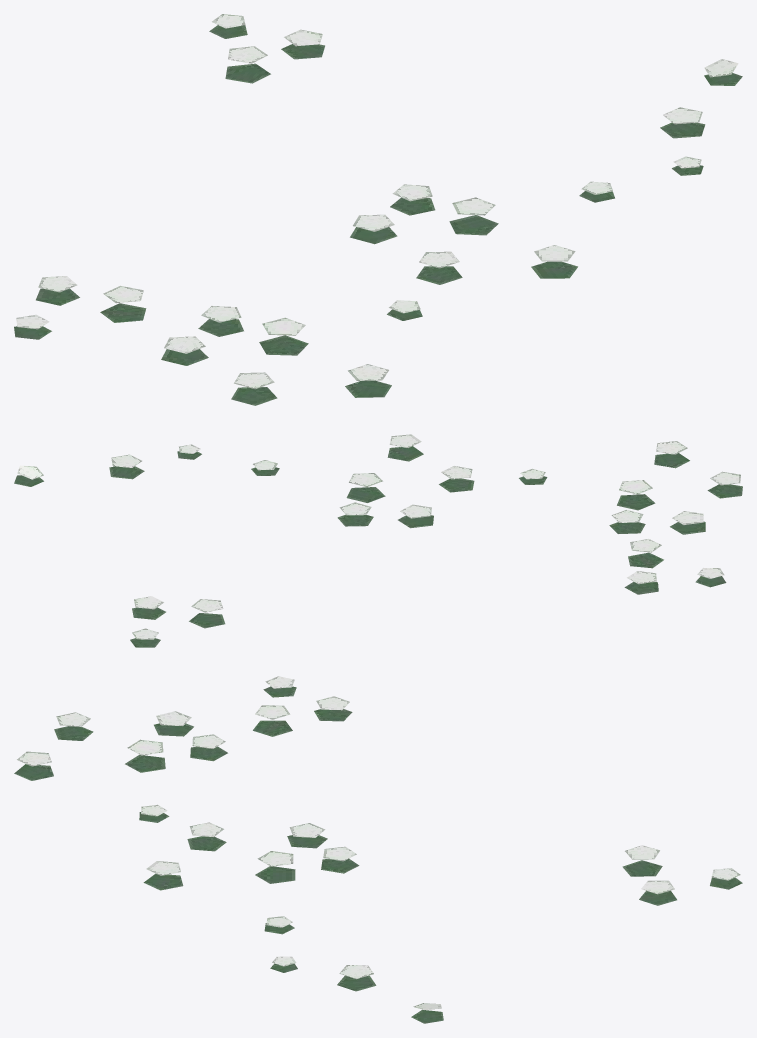
File: whiteflowers.glb
The picture shows the model from 3 angles, top to bottom: view 1: azimuth 30°, elevation 25°; view 2: azimuth 150°, elevation 25°; view 3: azimuth 270°, elevation 25°; orthographic projection. The views are drawn at different scales.
Visible parts, largest first — view 1: Props.266; view 2: Props.266; view 3: Props.266.
Boxes of the visible parts, x1,y1,x2,y2 form: Props.266: (14, 14, 742, 405); Props.266: (14, 434, 742, 647); Props.266: (14, 676, 742, 1023).
Bounding box in the file's own units: 1.54 × 0.0341 × 1.39.
1 material, 1 textured.
